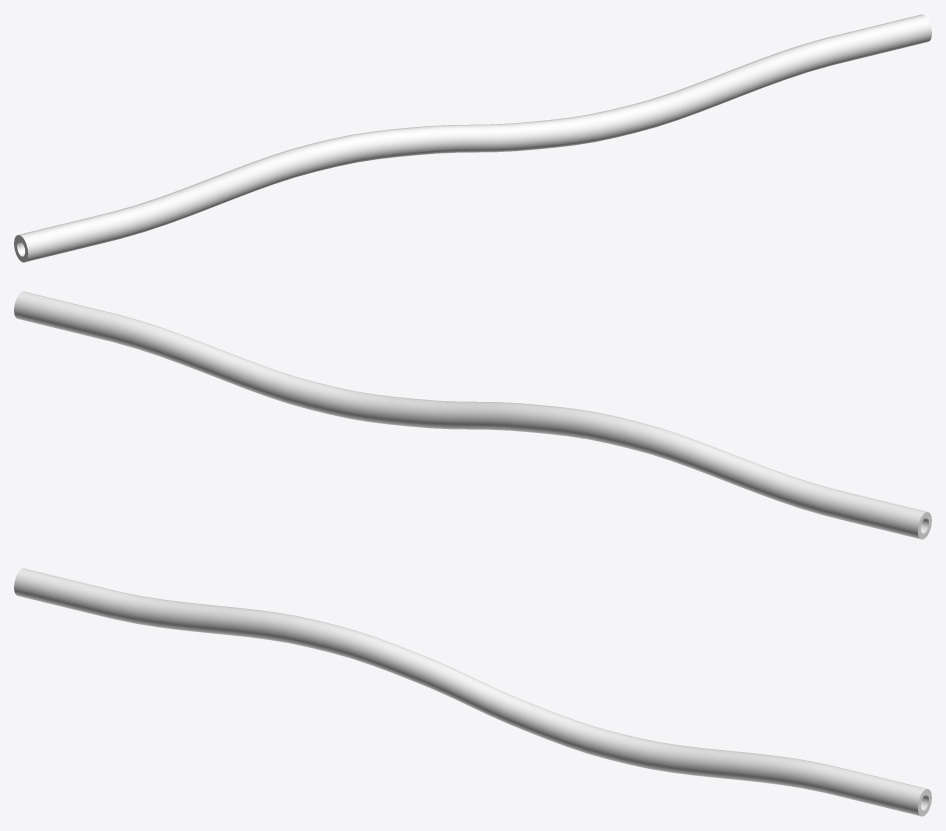
3 views of the same model, one above another, from view 1: azimuth 30°, elevation 25°; view 2: azimuth 150°, elevation 25°; view 3: azimuth 330°, elevation 25° (orthographic).
Parts seen in each view (by area): view 1: SB_Translucent-04; view 2: SB_Translucent-04; view 3: SB_Translucent-04.
Boxes of the visible parts, x1,y1,x2,y2 form: SB_Translucent-04: [14, 14, 931, 262]; SB_Translucent-04: [14, 291, 931, 539]; SB_Translucent-04: [14, 568, 931, 816].
Size of the model in its own units: 0.3074 by 0.0211 by 0.00838.
1 material, 1 textured.
